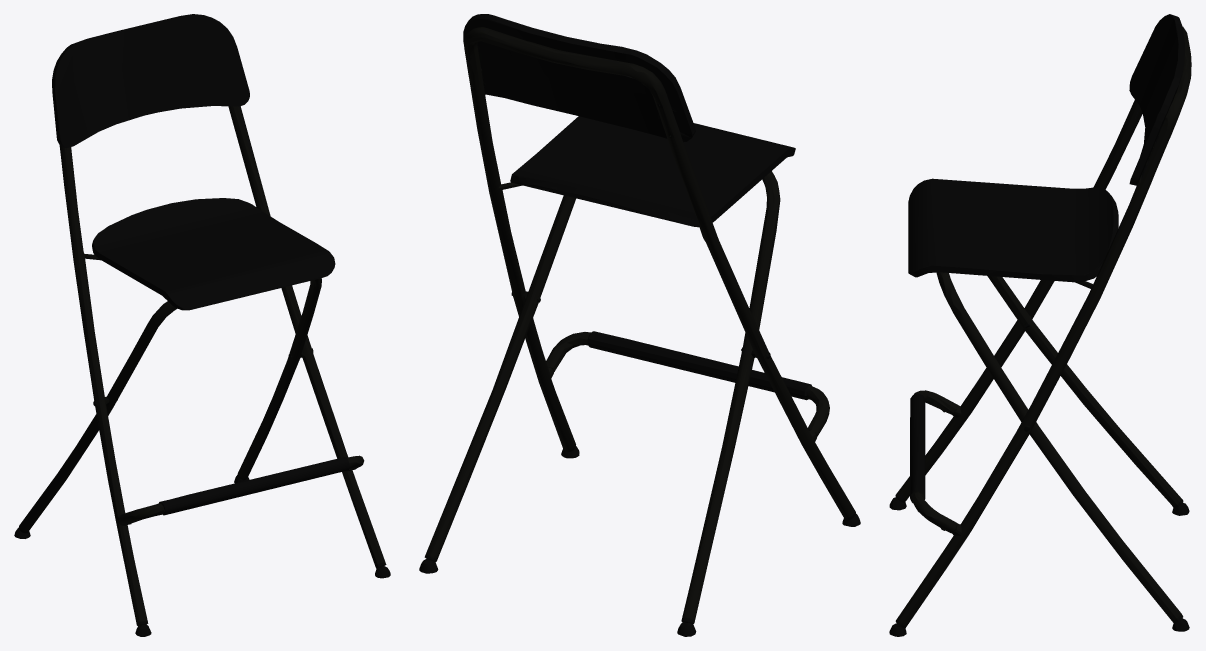
File: 19 - FRANKLIN - 折疊吧台椅, 櫃檯高度 黑色黑色, 63 公分 IKEA 線上購物.glb
The picture shows the model from 3 angles, left to right: view 1: azimuth 30°, elevation 25°; view 2: azimuth 150°, elevation 25°; view 3: azimuth 270°, elevation 25°; orthographic projection. The views are drawn at different scales.
Parts seen in each view (by area): view 1: ProcessedMeshNode; view 2: ProcessedMeshNode; view 3: ProcessedMeshNode.
Part boxes in pixels (left/top/right/bottom): ProcessedMeshNode: left=14, top=14, right=390, bottom=636; ProcessedMeshNode: left=419, top=14, right=860, bottom=636; ProcessedMeshNode: left=889, top=14, right=1191, bottom=636.
Bounding box in the file's own units: 0.5204 × 0.9495 × 0.4971.
Materials: 1 (1 with a texture image).
